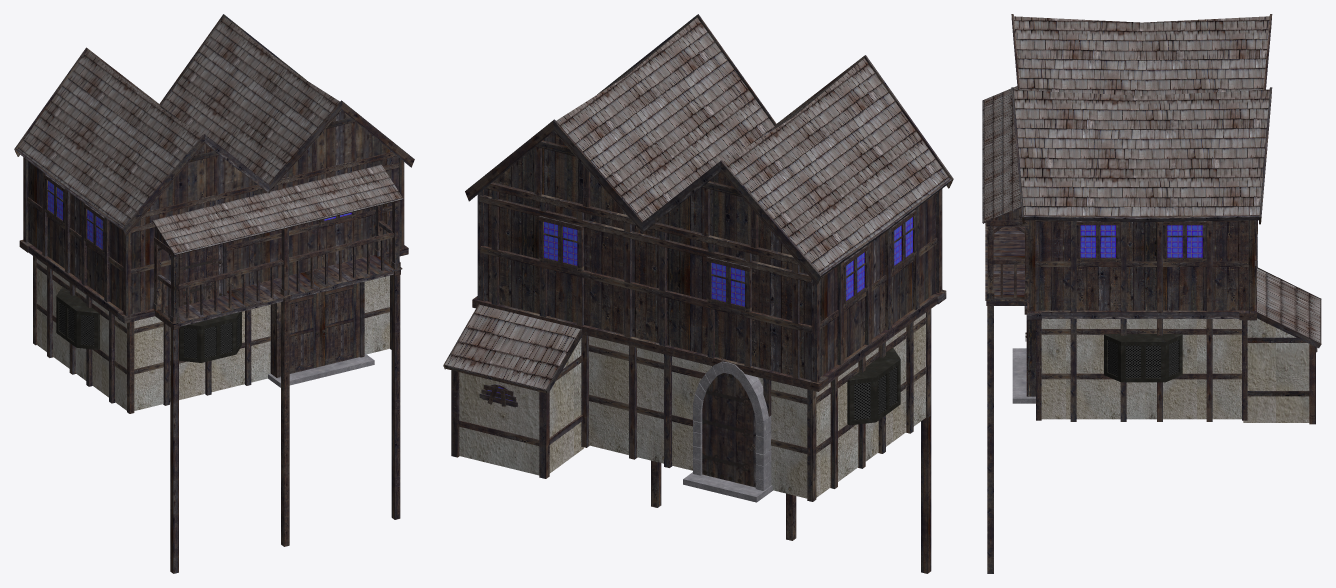
File: house43.dae
3 views of the same model, side by side, from view 1: azimuth 30°, elevation 25°; view 2: azimuth 150°, elevation 25°; view 3: azimuth 270°, elevation 25° (orthographic). The views are drawn at different scales.
Parts seen in each view (by area): view 1: House1_Roof, House1_Level2, House1_Level1, Balcony1Roof, House1_Level2_Beams, Balcony1Stilts, Balcony1, House1_Level1_Beams, House1_Roof_Frame, Balcony1Handles, Door4Right, Door4Left (+11 smaller); view 2: House1_Roof, House1_Level2, House1_Level2_Beams, House1_Level1, House1_Level1_Beams, BuildingExtensions4, House1_Roof_Frame, BuildingExtensions4Roof, Door3, House1_Level1_SeperatorBeams, Door3Frame, Balcony1Stilts (+11 smaller); view 3: House1_Roof, House1_Level1, House1_Level2, BuildingExtensions4, House1_Level1_Beams, House1_Level2_Beams, Balcony1Roof, Balcony1, BuildingExtensions4Roof, House1_Roof_Frame, House1_Level1_SeperatorBeams, WindowsOutwards1Frame_001 (+10 smaller).
Part boxes in pixels (x1,y1,x2,y2): House1_Roof: [18, 17, 339, 226]; House1_Level2: [28, 110, 398, 313]; House1_Level1: [37, 259, 389, 410]; Balcony1Roof: [153, 164, 403, 254]; House1_Level2_Beams: [23, 117, 404, 315]; Balcony1Stilts: [170, 275, 400, 573]; Balcony1: [152, 199, 403, 324]; House1_Level1_Beams: [33, 256, 391, 413]; House1_Roof_Frame: [14, 14, 414, 235]; Balcony1Handles: [157, 221, 394, 318]; Door4Right: [319, 283, 359, 366]; Door4Left: [280, 292, 319, 375]; House1_Roof: [556, 17, 949, 273]; House1_Level2: [484, 131, 935, 380]; House1_Level2_Beams: [477, 140, 942, 382]; House1_Level1: [589, 313, 925, 498]; House1_Level1_Beams: [581, 309, 930, 501]; BuildingExtensions4: [459, 338, 583, 475]; House1_Roof_Frame: [465, 14, 953, 284]; BuildingExtensions4Roof: [445, 305, 580, 389]; Door3: [702, 372, 755, 487]; House1_Level1_SeperatorBeams: [472, 289, 946, 391]; Door3Frame: [693, 361, 771, 490]; Balcony1Stilts: [651, 309, 931, 573]; House1_Roof: [1013, 16, 1269, 216]; House1_Level1: [1041, 319, 1241, 419]; House1_Level2: [1035, 221, 1248, 310]; BuildingExtensions4: [1243, 318, 1309, 422]; House1_Level1_Beams: [1036, 319, 1247, 421]; House1_Level2_Beams: [1029, 220, 1256, 311]; Balcony1Roof: [982, 86, 1020, 222]; Balcony1: [982, 207, 1029, 300]; BuildingExtensions4Roof: [1257, 268, 1320, 342]; House1_Roof_Frame: [1011, 14, 1272, 224]; House1_Level1_SeperatorBeams: [1027, 234, 1256, 320]; WindowsOutwards1Frame_001: [1104, 334, 1182, 382].
Size of the model in its own units: 8.37 by 7.61 by 11.43.
24 materials, 24 textured.
